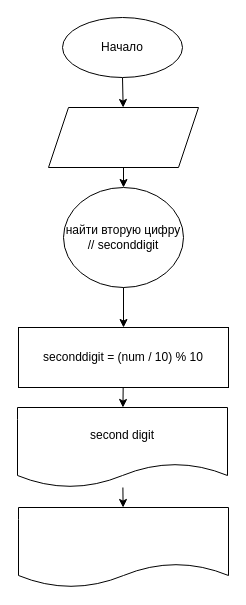
Image size: 246x605. Some labels were removed from this diagram. The centre of each missing label's shape, as x and y in pixels:
"num - трехзначное число" belongs at [123,137].
"конец" belongs at [123,547].
